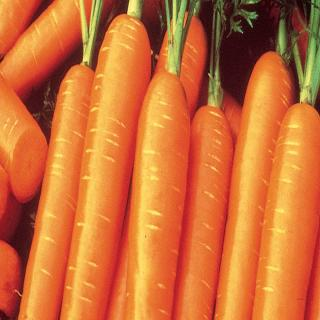Wortel: (35, 1, 306, 320)
